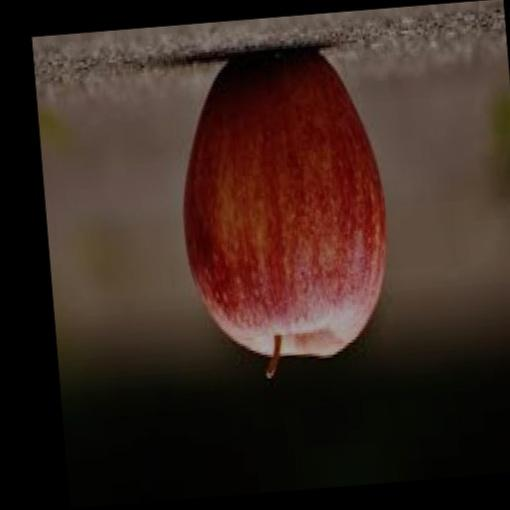red apple: (181, 51, 386, 366)
